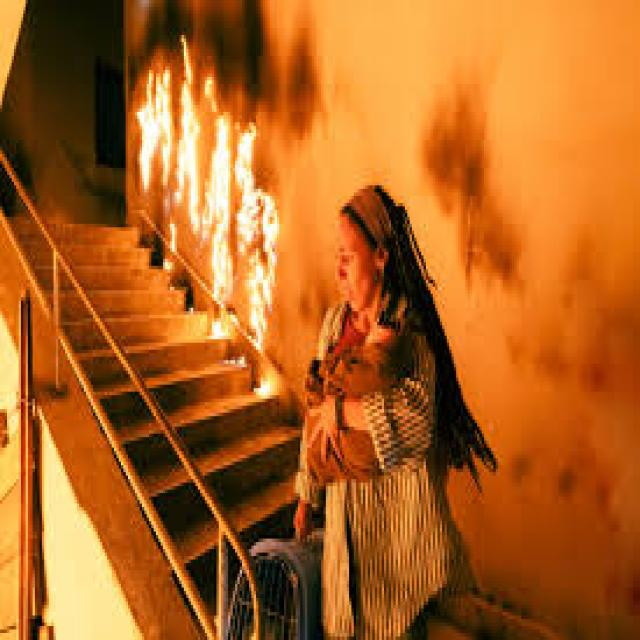fire: (126, 28, 288, 387)
